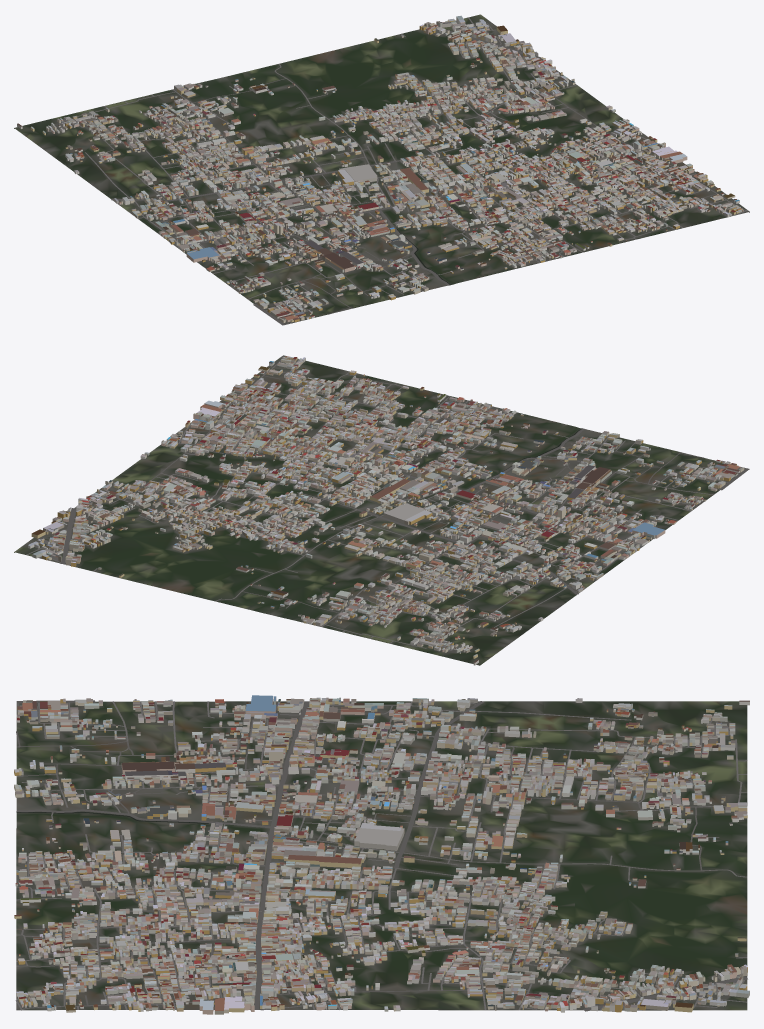
3 renders of one model, top to bottom at view 1: azimuth 30°, elevation 25°; view 2: azimuth 150°, elevation 25°; view 3: azimuth 270°, elevation 25°, orthographic. The views are drawn at different scales.
Parts seen in each view (by area): view 1: buildings, ground, roads; view 2: buildings, ground, roads; view 3: buildings, ground, roads.
Part boxes in pixels (x1,y1,x2,y2): buildings: [17, 15, 743, 322]; ground: [14, 14, 749, 324]; roads: [47, 17, 748, 325]; buildings: [28, 356, 744, 665]; ground: [14, 355, 745, 665]; roads: [26, 356, 749, 651]; buildings: [14, 695, 749, 1014]; ground: [16, 701, 747, 1010]; roads: [15, 700, 747, 1011].
Size of the model in its own units: 1428 by 28.34 by 1410.
